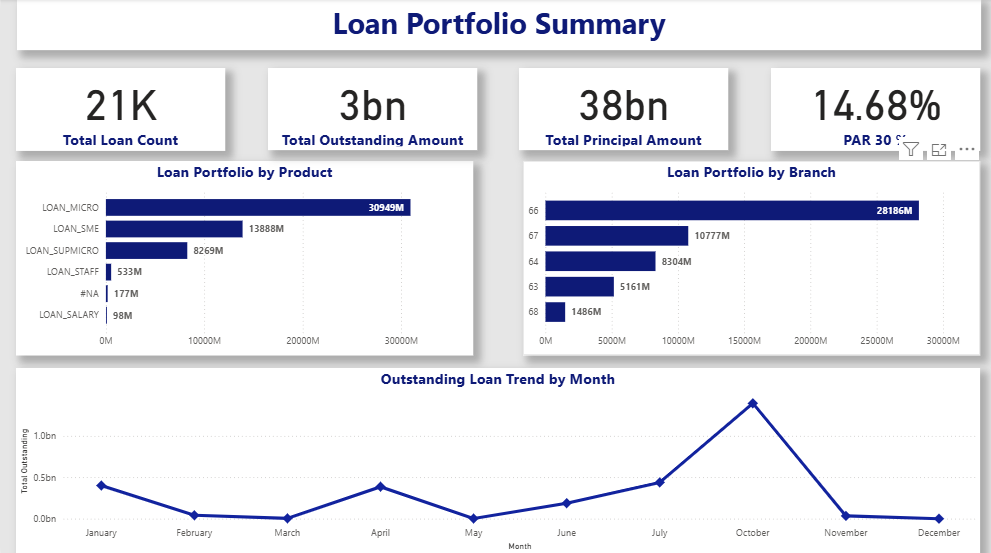

Layout of this report page (visuals, bound fields, positions):
{"tool":"powerbi","page":{"name":"Loan Portfolio Summary","canvas":[1280,720],"ordinal":0},"visuals":[{"type":"card","fields":{"Values":["FactLoan.PAR 30 %"]},"box":[993.4,88.5,270.1,106.5],"z":0},{"type":"card","fields":{"Values":["FactLoan.Total Loans"]},"box":[19.5,88.5,270.1,106.5],"z":1000},{"type":"card","fields":{"Values":["DimDate.Total Principal"]},"box":[668.8,89,270,106],"z":2000},{"type":"textbox","box":[20,0,1244,66],"z":3000},{"type":"barChart","title":"Loan Portfolio by Product","fields":{"Category":["Dimension.product_key"],"Y":["Sum(Dimension.principal_amount)"]},"box":[19.5,208.6,589.7,250.6],"z":4000},{"type":"card","fields":{"Values":["FactLoan.Total Outstanding"]},"box":[344.2,89,270,106],"z":5000},{"type":"barChart","title":"Loan Portfolio by Branch","fields":{"Y":["Sum(Dimension.principal_amount)"],"Category":["Dimension.branch_key"]},"box":[673.8,208.6,589.7,250.6],"z":6000},{"type":"lineChart","title":"Outstanding Loan Trend by Month","fields":{"Category":["FactLoan.start_date.Variation.Date Hierarchy.Month"],"Y":["FactLoan.Total Outstanding"]},"box":[19.5,475.7,1244,240.1],"z":7000}]}

Visuals, with their boxes in screenshot pixels (x1, y1, x2, y2), scaled from the page's 1280x720 canvas onto the 991x553 screenshot:
card - FactLoan.PAR 30 %: left=769, top=68, right=978, bottom=150
card - FactLoan.Total Loans: left=15, top=68, right=224, bottom=150
card - DimDate.Total Principal: left=518, top=68, right=727, bottom=150
textbox: left=15, top=0, right=979, bottom=51
"Loan Portfolio by Product" barChart: left=15, top=160, right=472, bottom=353
card - FactLoan.Total Outstanding: left=266, top=68, right=476, bottom=150
"Loan Portfolio by Branch" barChart: left=522, top=160, right=978, bottom=353
"Outstanding Loan Trend by Month" lineChart: left=15, top=365, right=978, bottom=550
